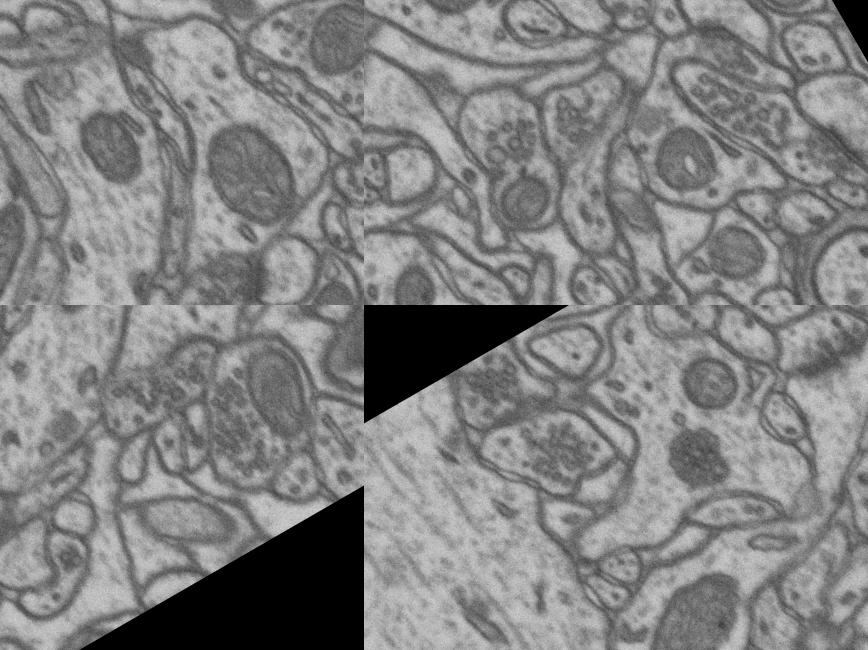mitochondria: (186, 104, 316, 246), (612, 555, 768, 650), (224, 324, 335, 446), (633, 99, 743, 215), (683, 202, 789, 305), (657, 328, 760, 431), (63, 93, 157, 196), (484, 145, 584, 239), (285, 0, 364, 92), (72, 0, 261, 36), (374, 0, 515, 38), (368, 260, 463, 305), (731, 0, 830, 34), (324, 305, 364, 382), (304, 270, 364, 305), (798, 305, 868, 319)
